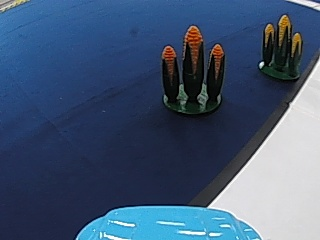corn: (157, 26, 228, 115), (256, 11, 304, 80)
